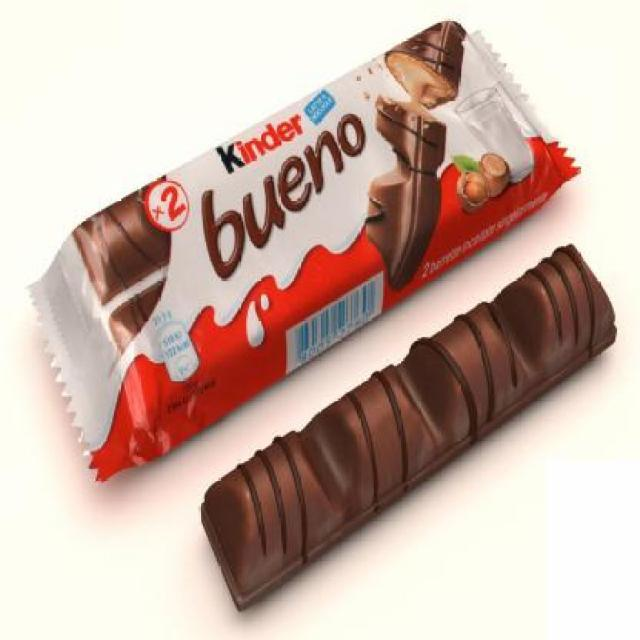Chocolate bar: (28, 18, 577, 480)
Chocolate bar packaged: (199, 244, 616, 613)
